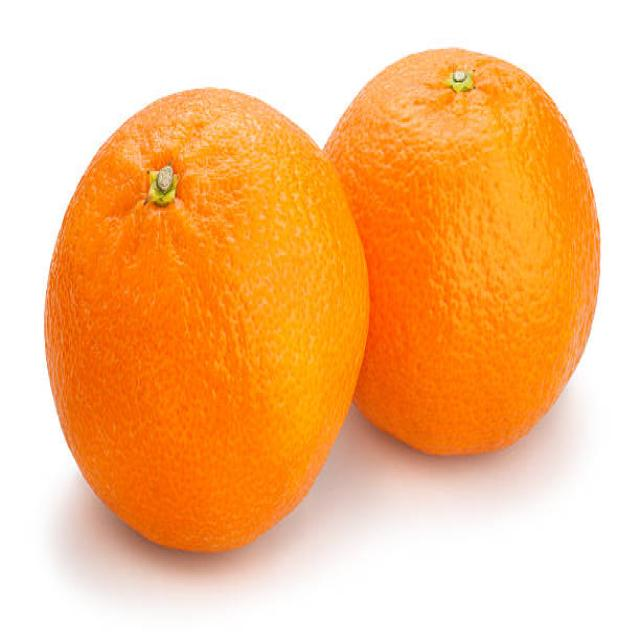Ripe: (41, 85, 370, 556), (336, 44, 606, 461)
